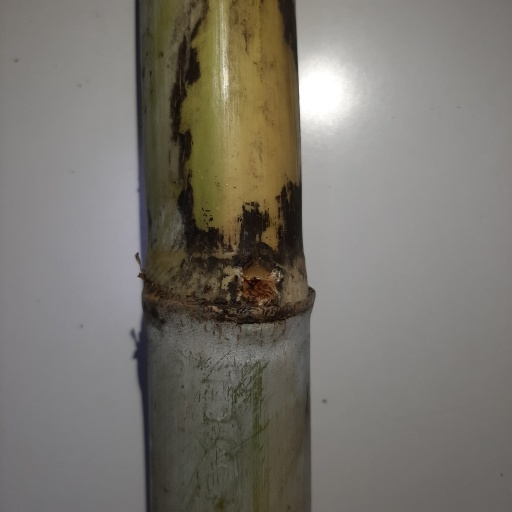Damage_Bud: (239, 259, 278, 308)
